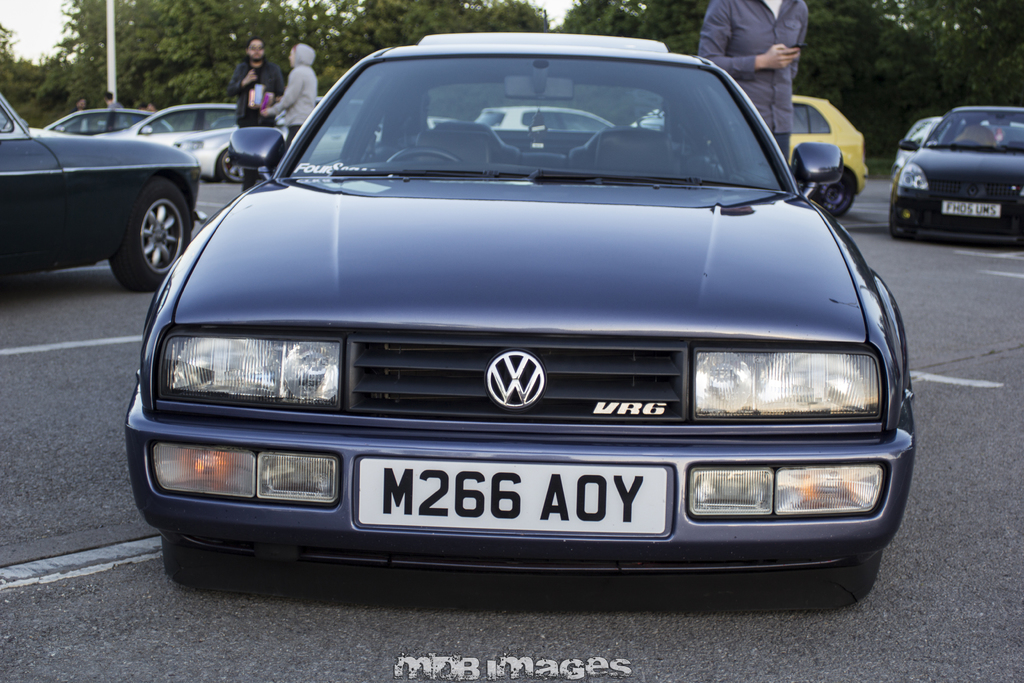Car: (0, 96, 204, 291), (892, 102, 1023, 240), (174, 103, 369, 185), (790, 94, 865, 216), (119, 96, 240, 137), (46, 107, 174, 135), (479, 107, 614, 133), (912, 115, 1023, 137)
